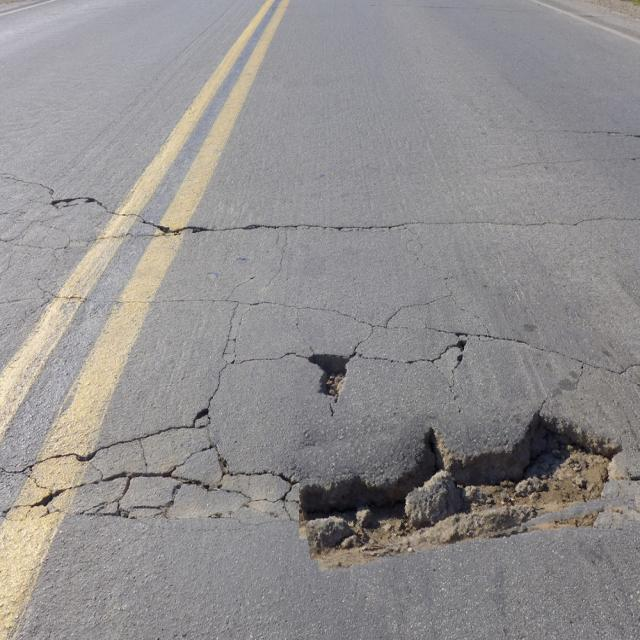Pothole: (299, 400, 632, 560), (297, 334, 349, 403)
